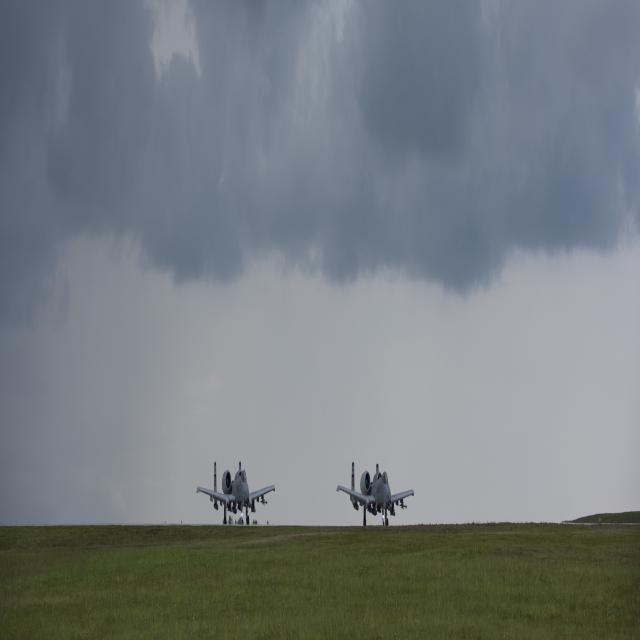MIL_Plane: (196, 461, 275, 525), (336, 462, 414, 526)
